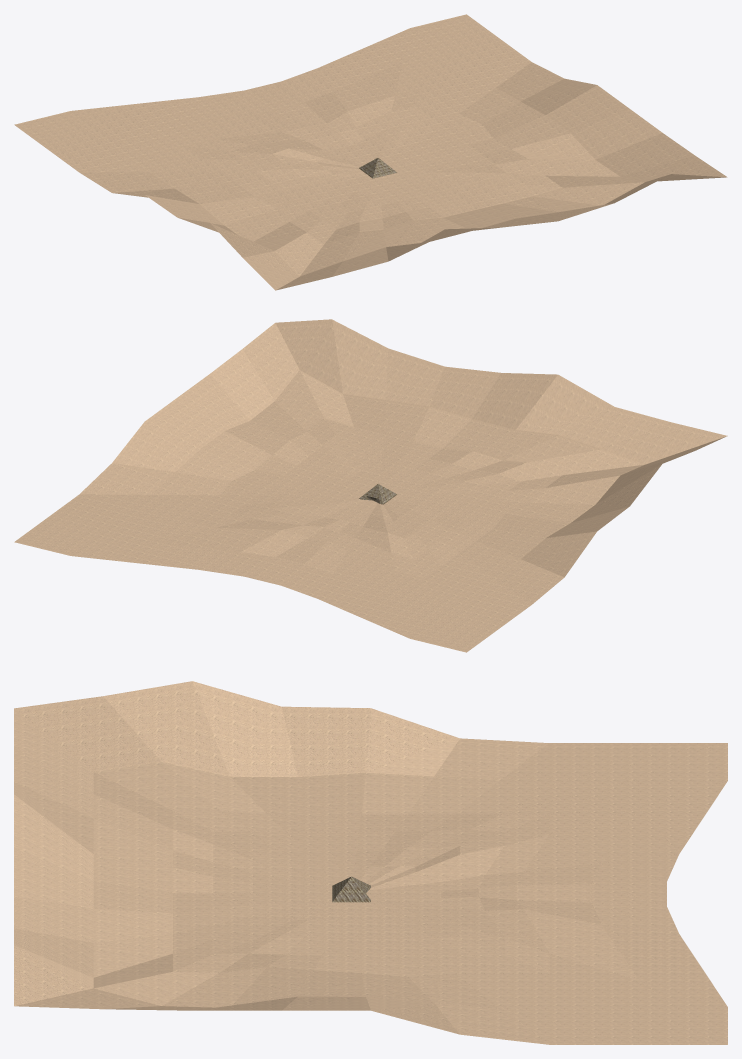
3 views of the same model, one above another, from view 1: azimuth 30°, elevation 25°; view 2: azimuth 150°, elevation 25°; view 3: azimuth 270°, elevation 25° (orthographic). The views are drawn at different scales.
Parts seen in each view (by area): view 1: Cube; view 2: Cube; view 3: Cube.
Boxes of the visible parts, x1=… form: Cube: x1=14, y1=14, x2=727, y2=290; Cube: x1=14, y1=319, x2=727, y2=652; Cube: x1=14, y1=681, x2=727, y2=1044.
Bounding box in the file's own units: 1157 × 111 × 1157.
Materials: 2 (2 with a texture image).
